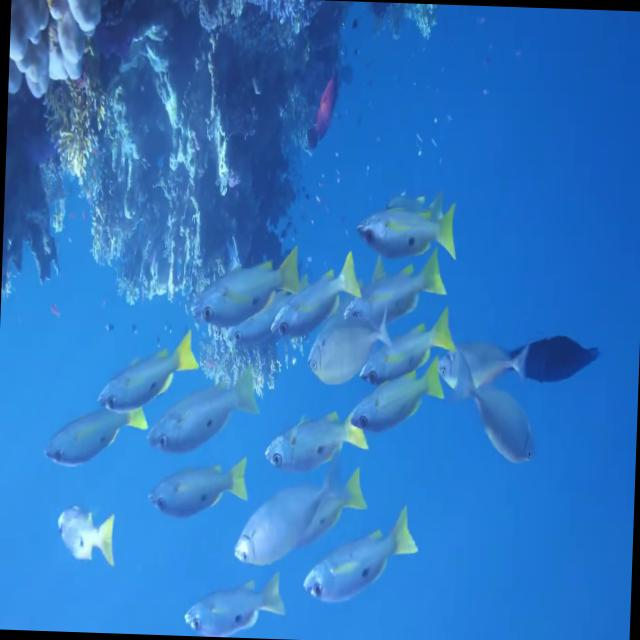fish: (300, 496, 418, 614), (136, 354, 266, 459), (90, 304, 201, 426), (224, 459, 340, 570), (194, 225, 302, 331), (40, 369, 145, 478), (355, 174, 460, 278), (268, 248, 364, 358), (340, 256, 454, 346), (139, 450, 251, 530), (471, 378, 552, 488), (302, 308, 402, 394), (350, 370, 456, 450), (260, 408, 378, 478), (180, 568, 295, 639), (441, 330, 543, 409), (518, 322, 608, 408), (298, 460, 377, 554), (364, 323, 458, 392), (49, 491, 122, 578)
